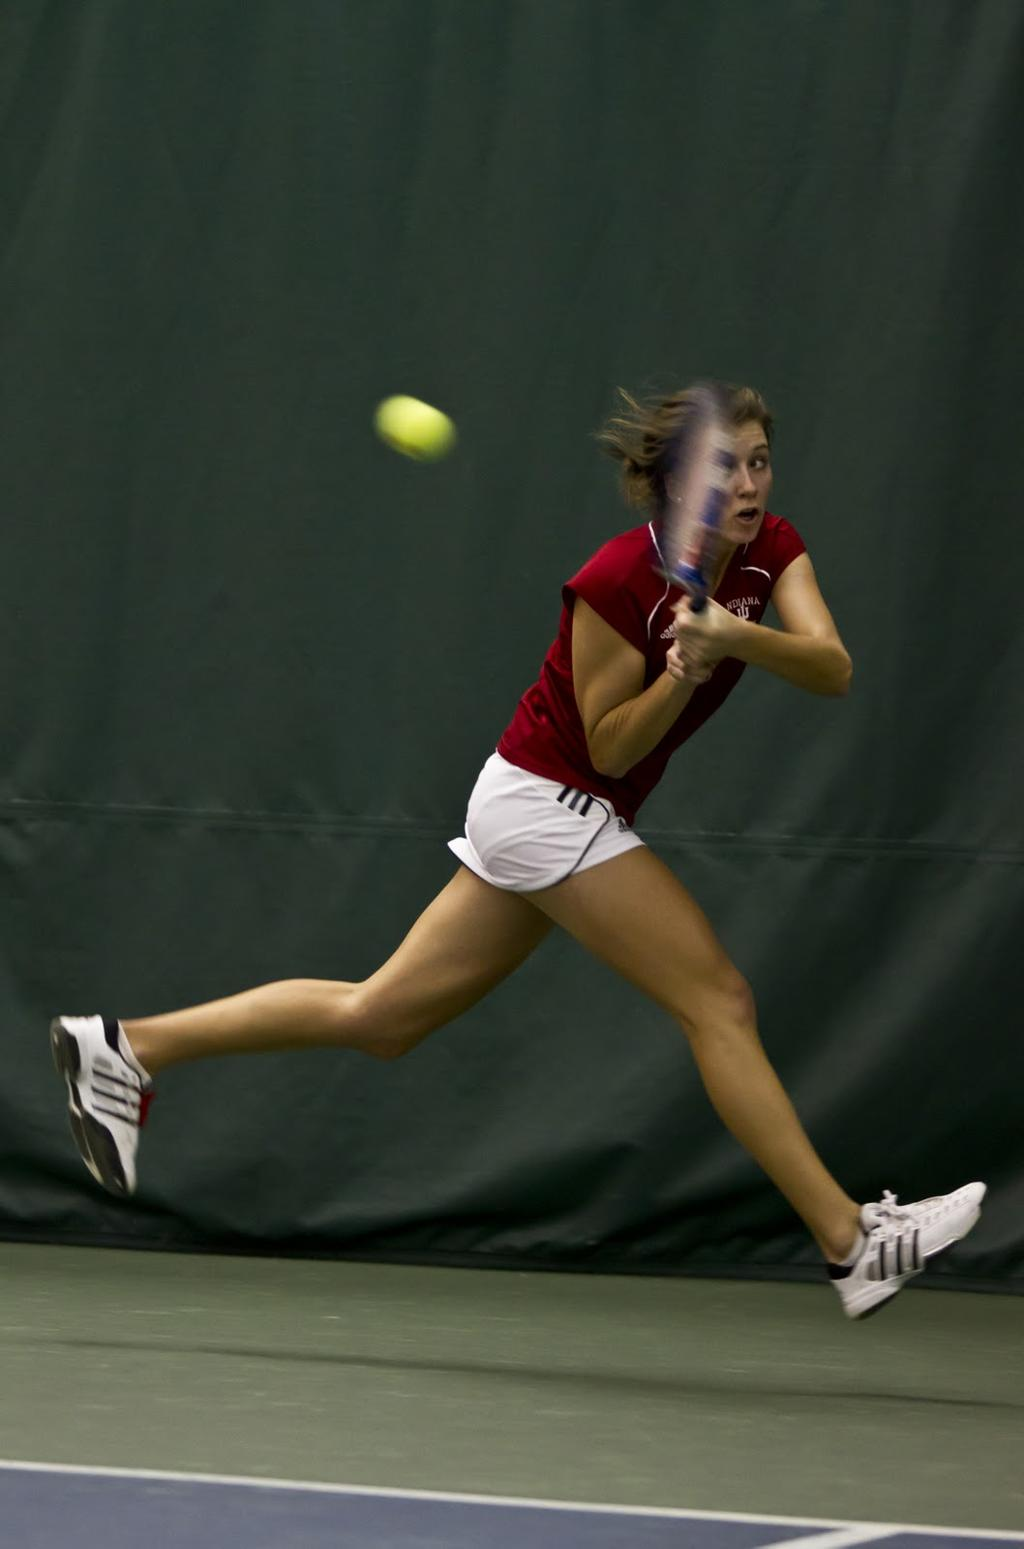face: (695, 423, 771, 547)
